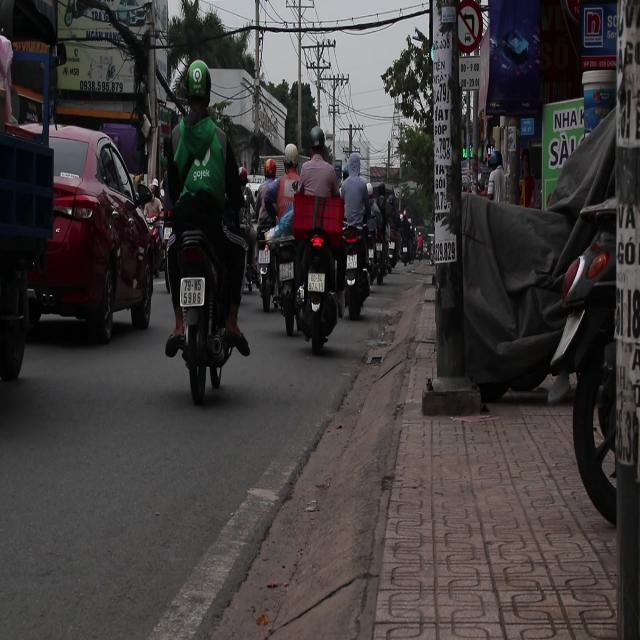car: (31, 125, 160, 342)
motorbike: (169, 223, 234, 405), (304, 199, 344, 356), (274, 222, 304, 347), (344, 217, 376, 321)
